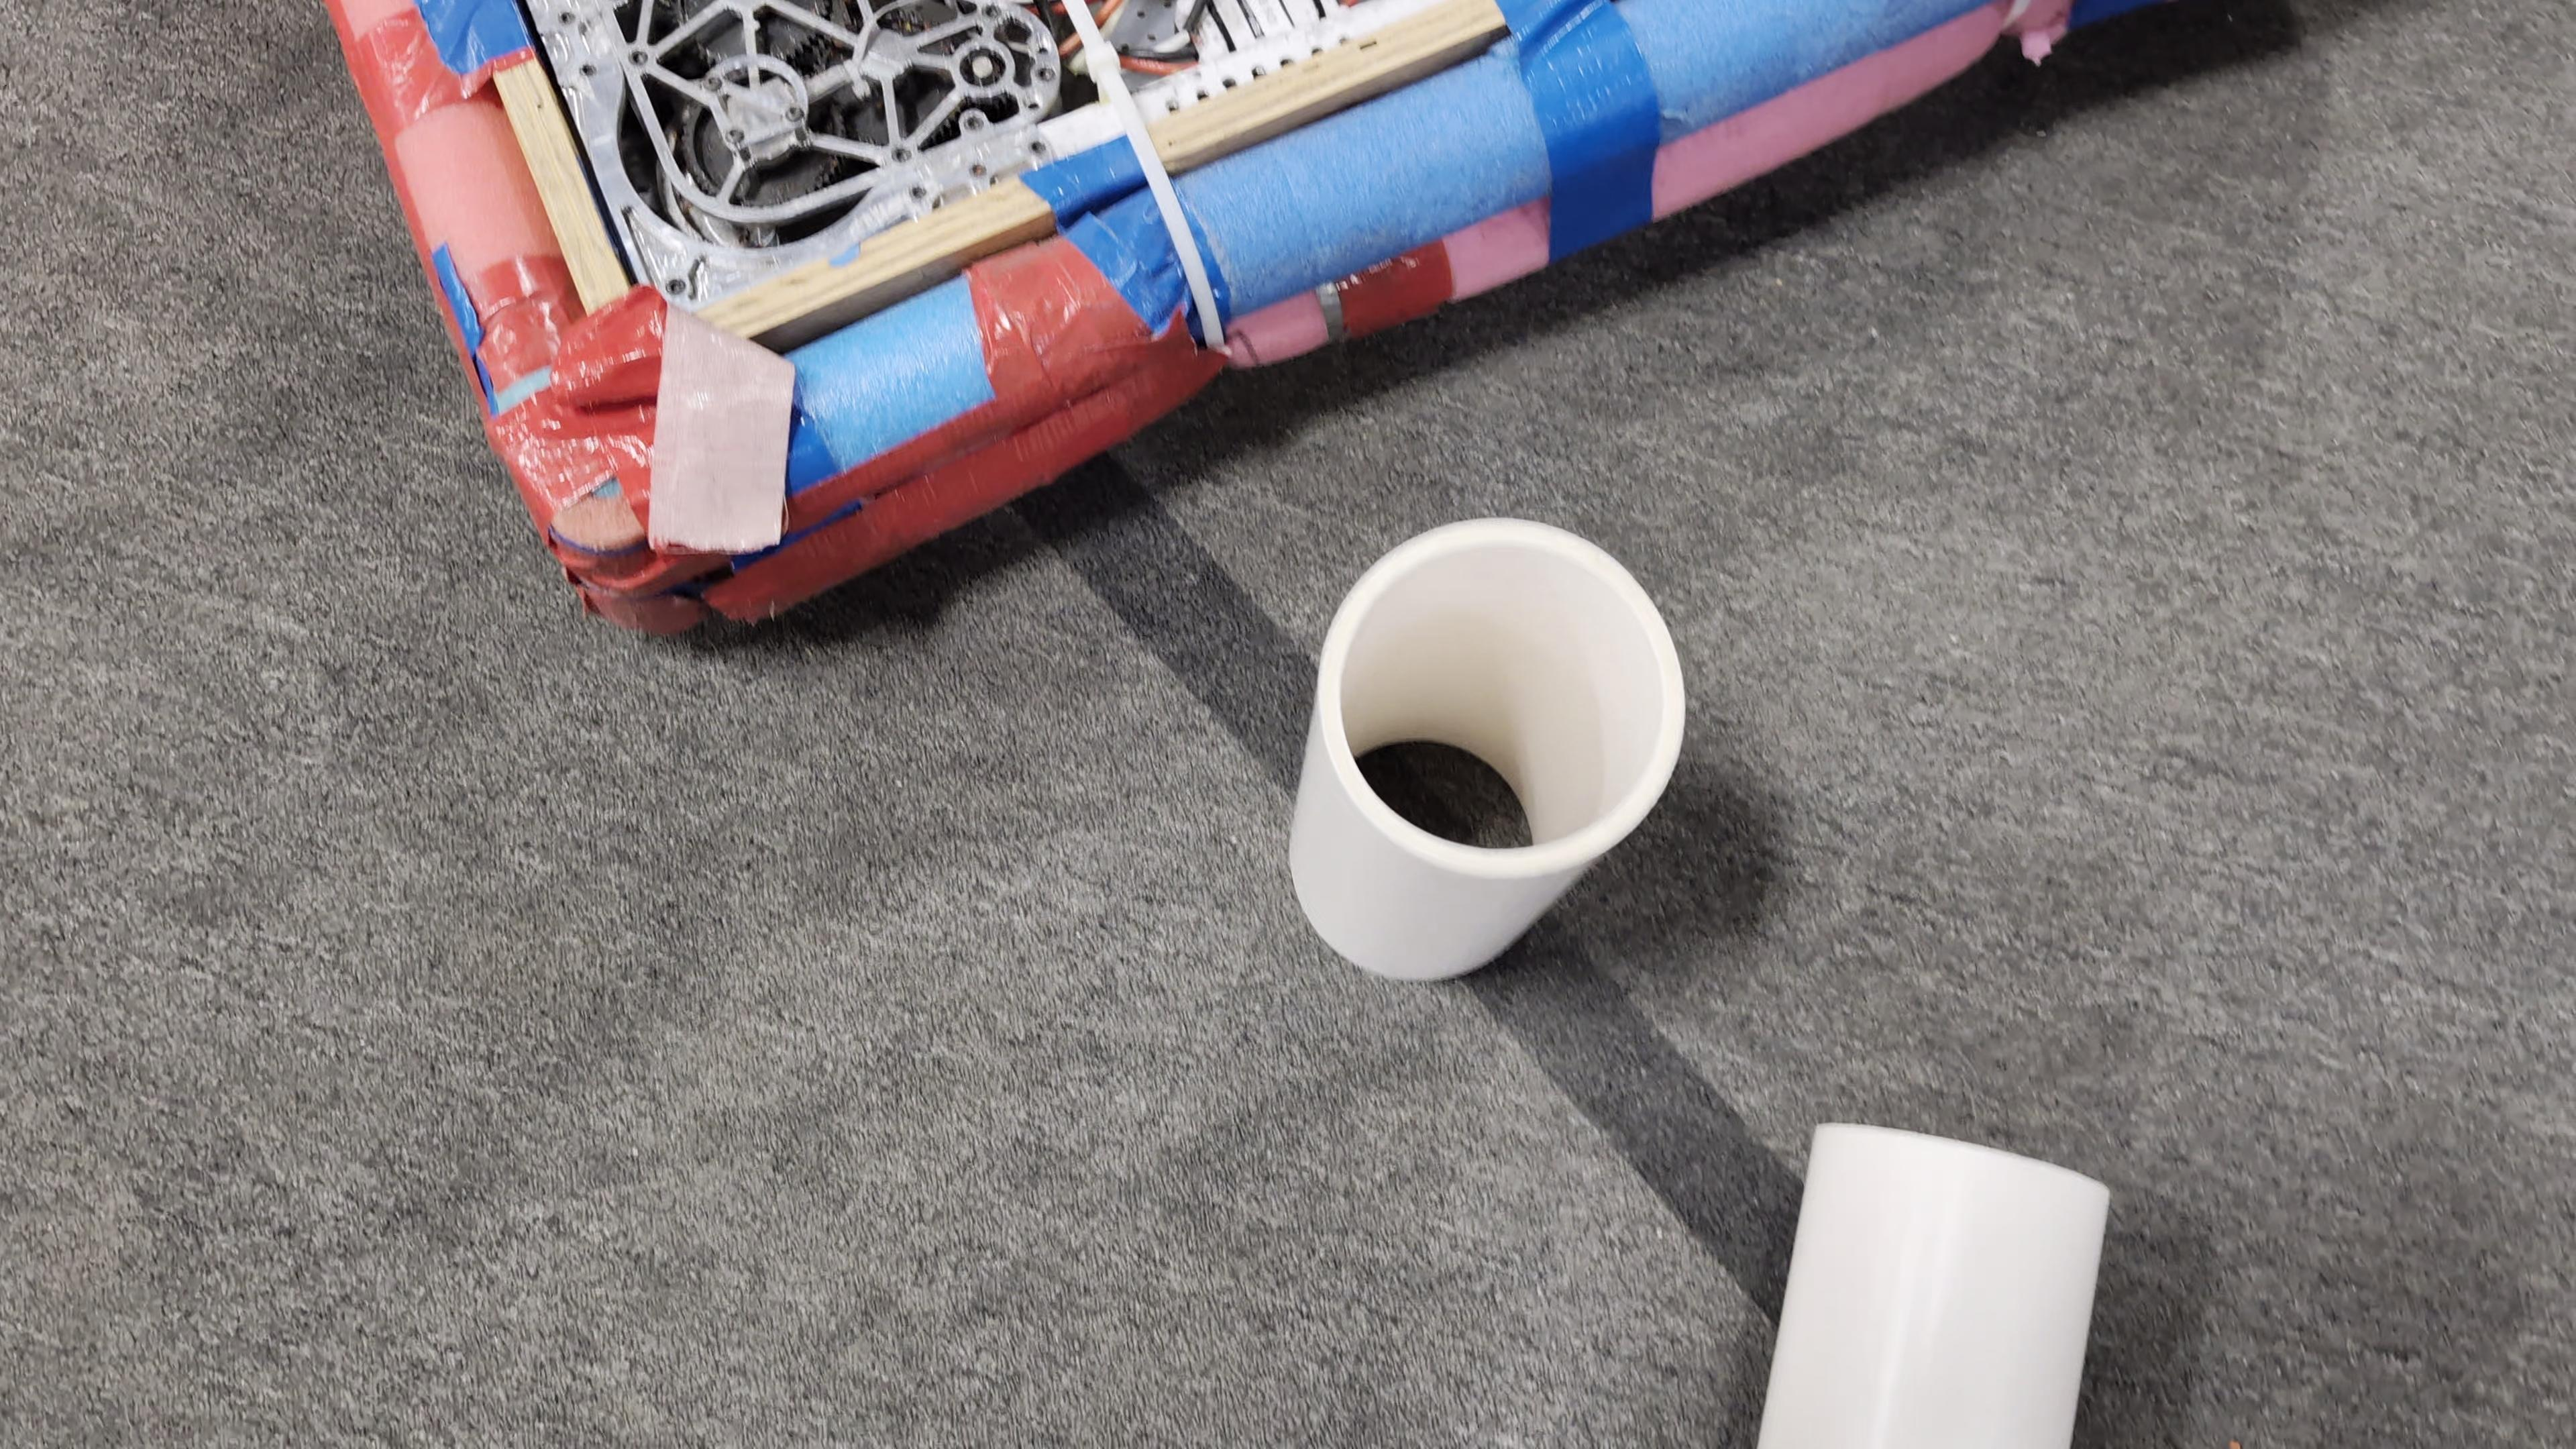coral: (1287, 513, 1688, 981), (1756, 1124, 2108, 1449)
